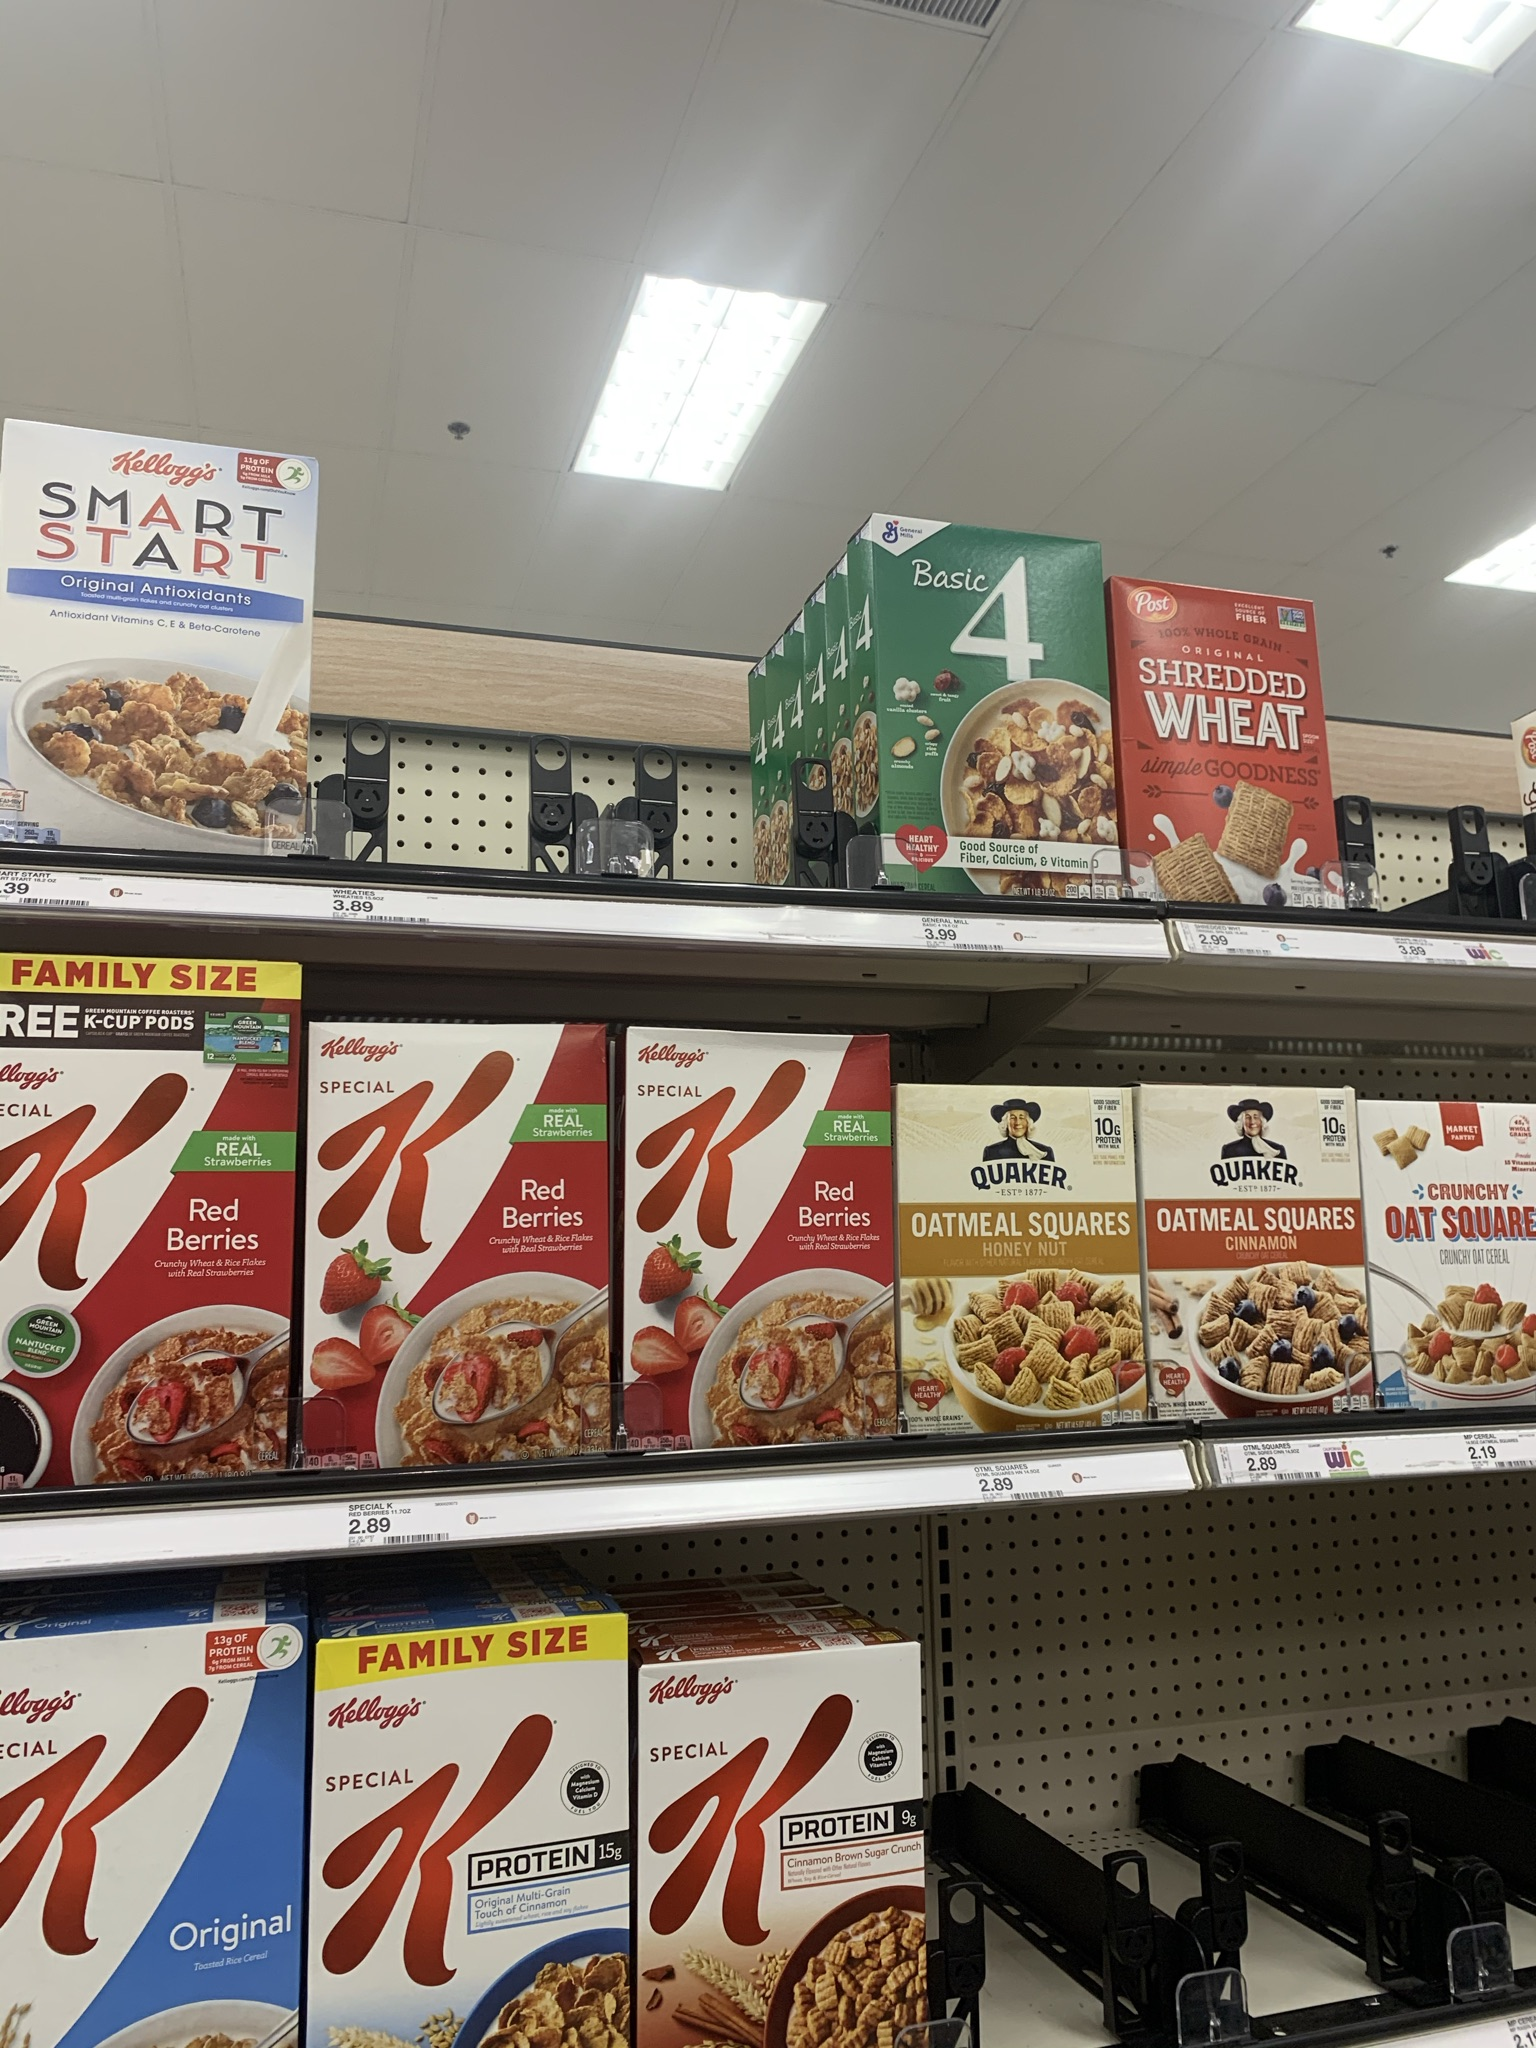Cereal: (2, 955, 290, 1487), (307, 1013, 615, 1469), (310, 1616, 637, 2042), (634, 1642, 934, 2048), (626, 1032, 899, 1442), (895, 1069, 1150, 1430), (1142, 1084, 1365, 1424), (1355, 1092, 1536, 1417)
